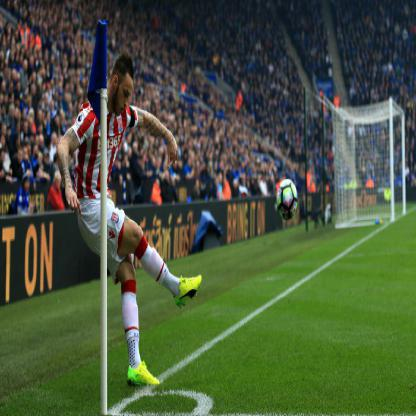corner kick: (55, 22, 213, 413)
